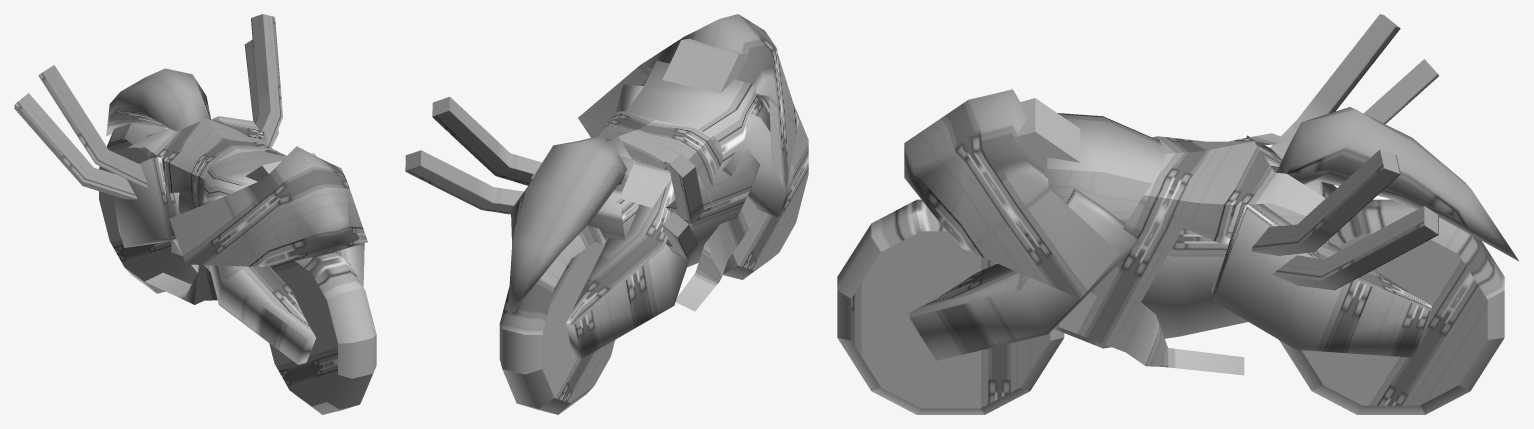
The model's file is HorseBike_MKII.fbx.
3 renders of one model, left to right at view 1: azimuth 30°, elevation 25°; view 2: azimuth 150°, elevation 25°; view 3: azimuth 270°, elevation 25°, orthographic. The views are drawn at different scales.
Parts seen in each view (by area): view 1: HorseBike_MKII; view 2: HorseBike_MKII; view 3: HorseBike_MKII.
Part boxes in pixels (left/top/right/bottom): HorseBike_MKII: left=14, top=14, right=376, bottom=414; HorseBike_MKII: left=405, top=14, right=808, bottom=414; HorseBike_MKII: left=837, top=14, right=1519, bottom=414.
Bounding box in the file's own units: 133 × 123 × 233.
1 material, 1 textured.
